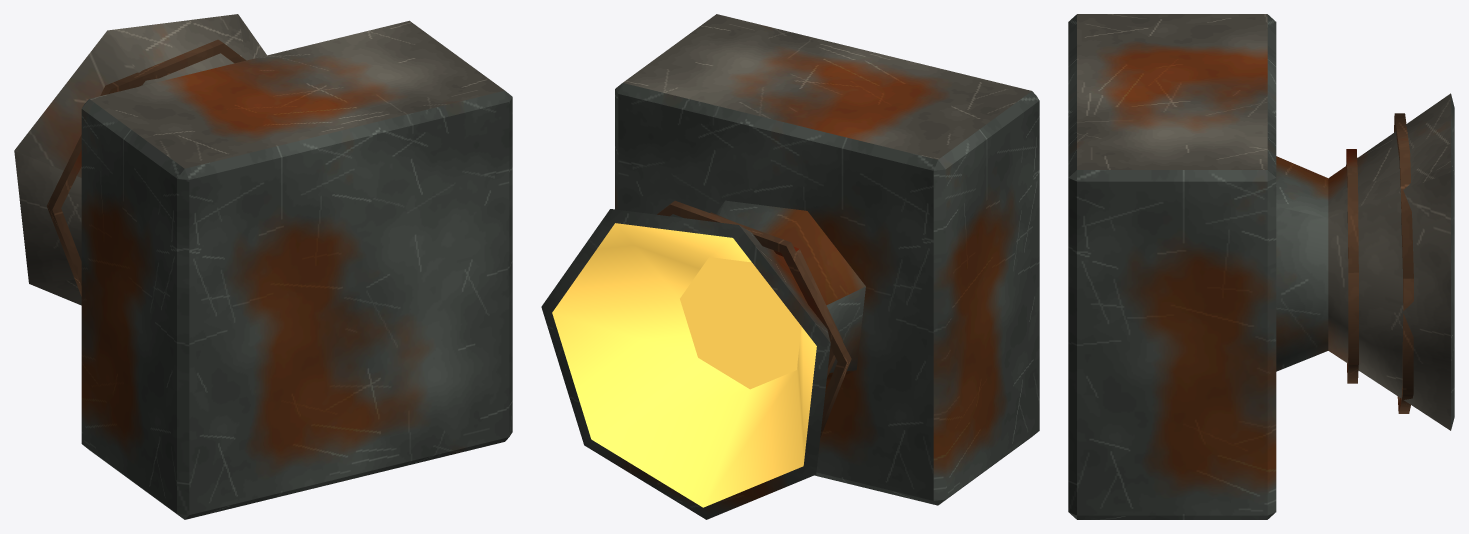
Rendered from R4X_Booster_LOD1.glb.
3 renders of one model, left to right at view 1: azimuth 30°, elevation 25°; view 2: azimuth 150°, elevation 25°; view 3: azimuth 270°, elevation 25°, orthographic.
Parts seen in each view (by area): view 1: R4X_Booster_LOD1; view 2: R4X_Booster_LOD1; view 3: R4X_Booster_LOD1.
Boxes of the visible parts, <box> form: R4X_Booster_LOD1: <box>14,14,512,519</box>; R4X_Booster_LOD1: <box>541,14,1039,519</box>; R4X_Booster_LOD1: <box>1068,14,1454,519</box>.
Size of the model in its own units: 0.52 by 0.52 by 0.52.
Materials: 4 (3 with a texture image).
